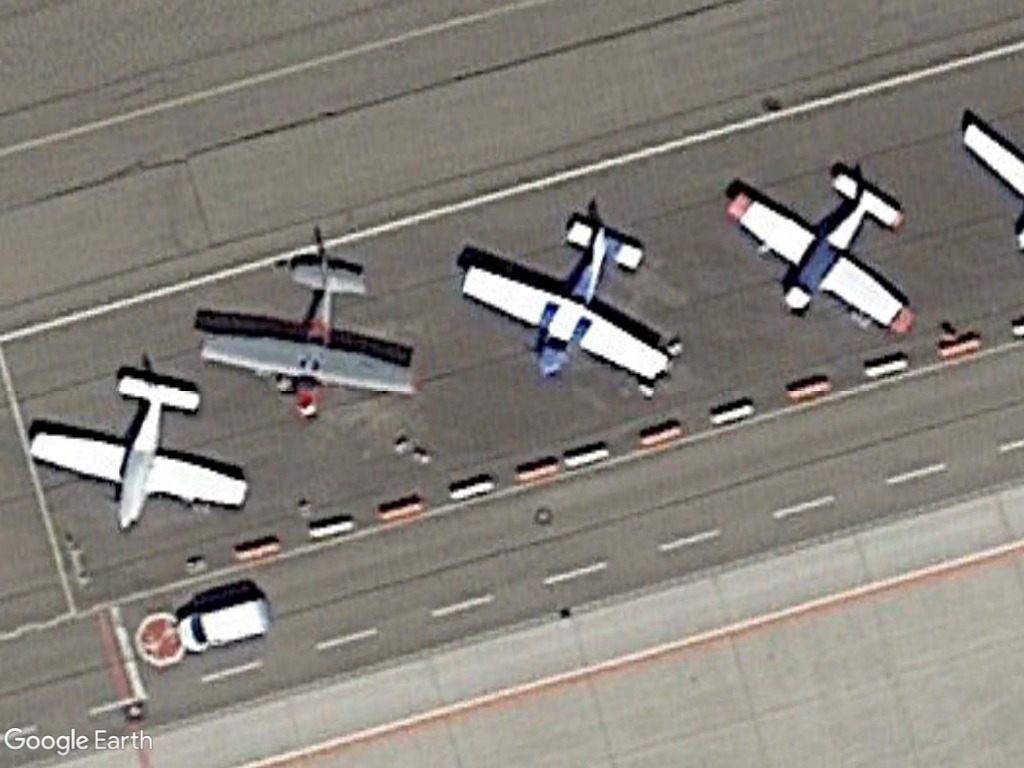trainer: (20, 364, 258, 535), (455, 212, 677, 395), (197, 257, 426, 419), (722, 170, 923, 340)
van: (176, 594, 272, 659)
